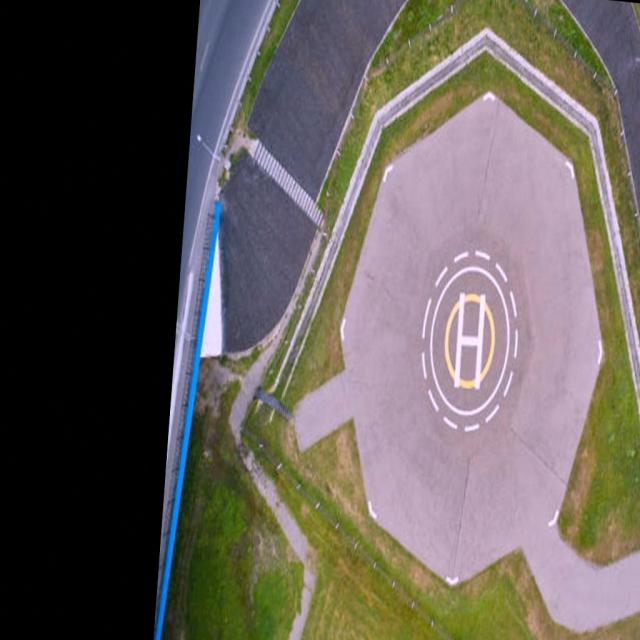helipad: (426, 263, 512, 416)
